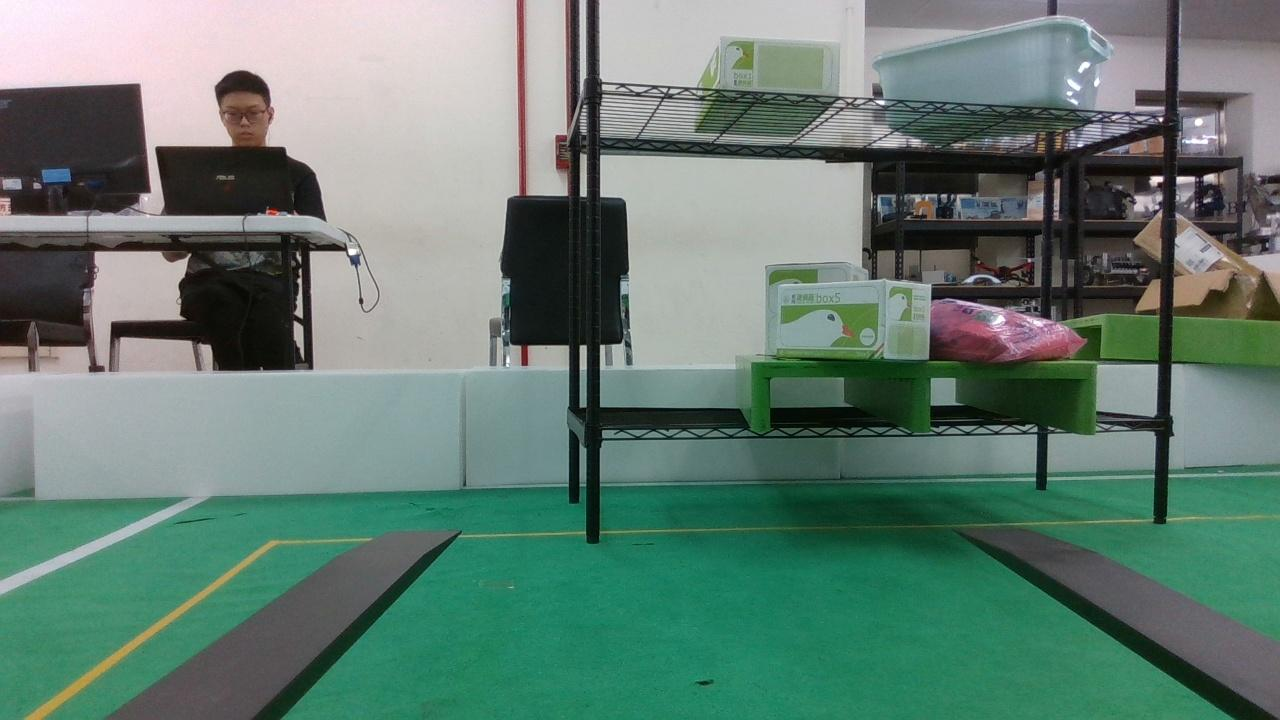Pallet: (749, 361, 1099, 435)
